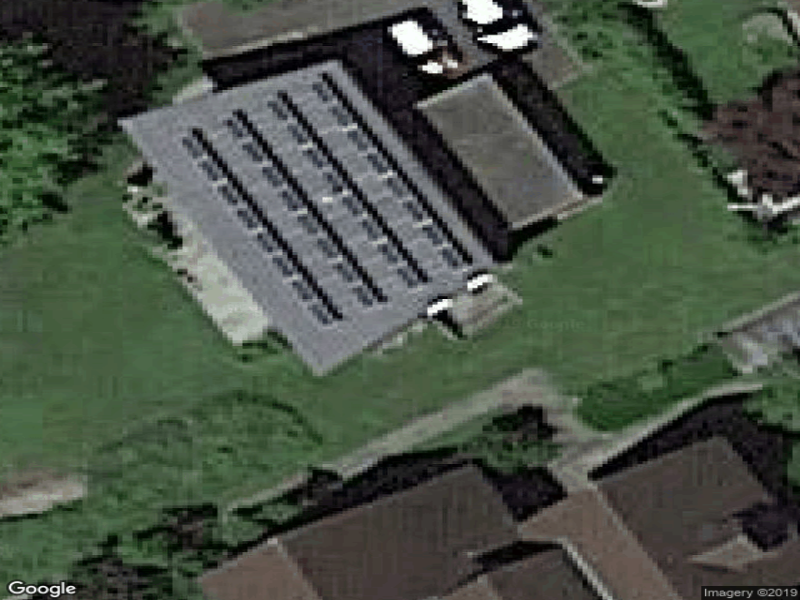pv: (178, 80, 473, 327)
